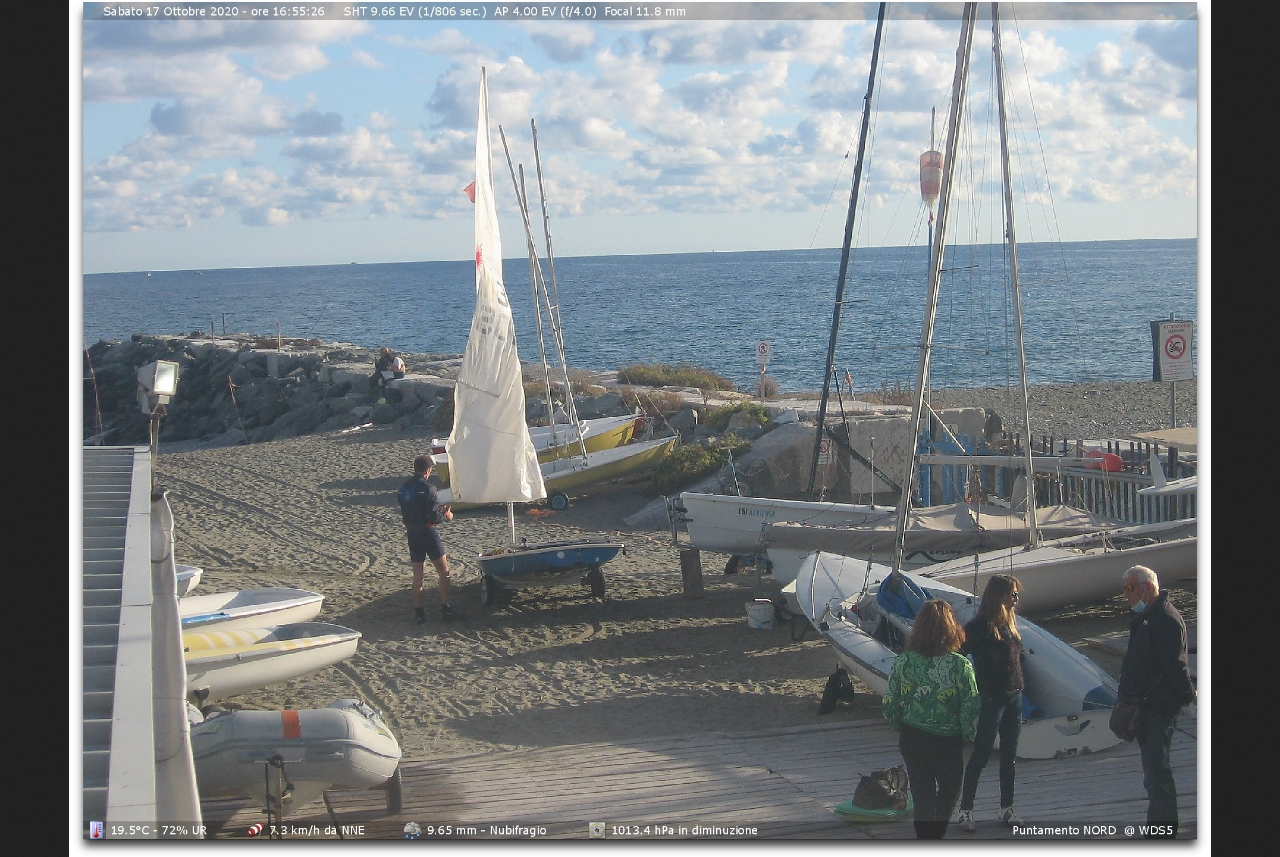no: (440, 62, 555, 502)
